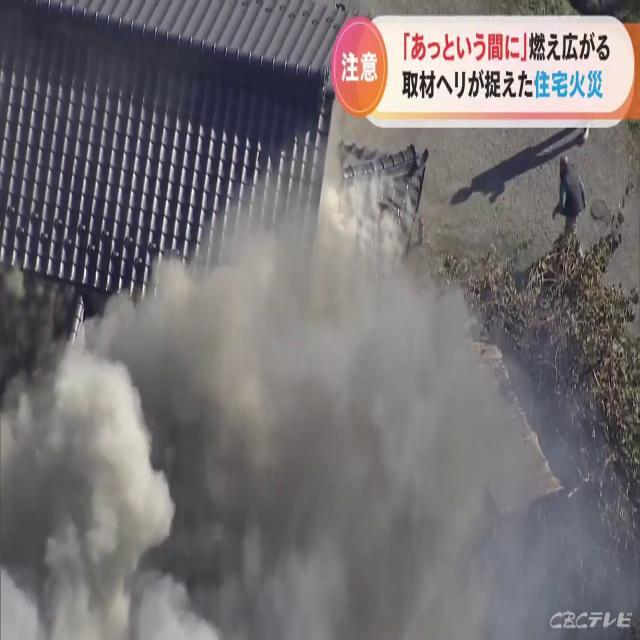Smoke: (0, 162, 639, 640)
